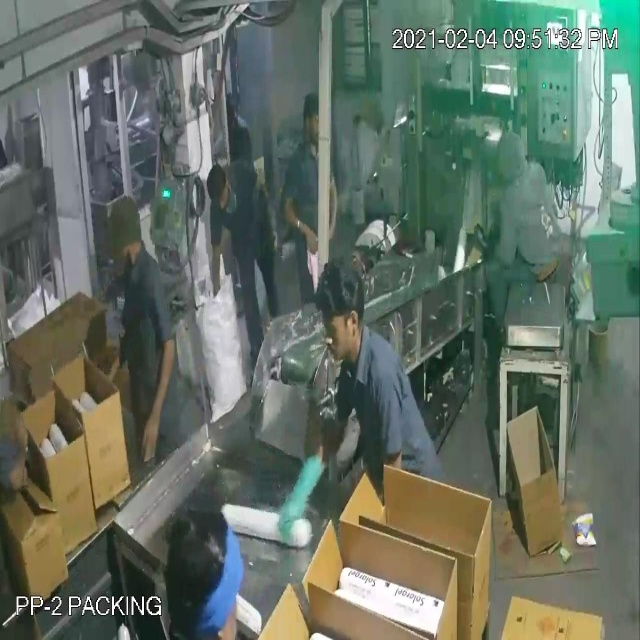Guantes: (277, 440, 325, 548)
Sin_guantes: (129, 319, 180, 471), (278, 181, 322, 261), (204, 232, 233, 305), (318, 174, 346, 248)
